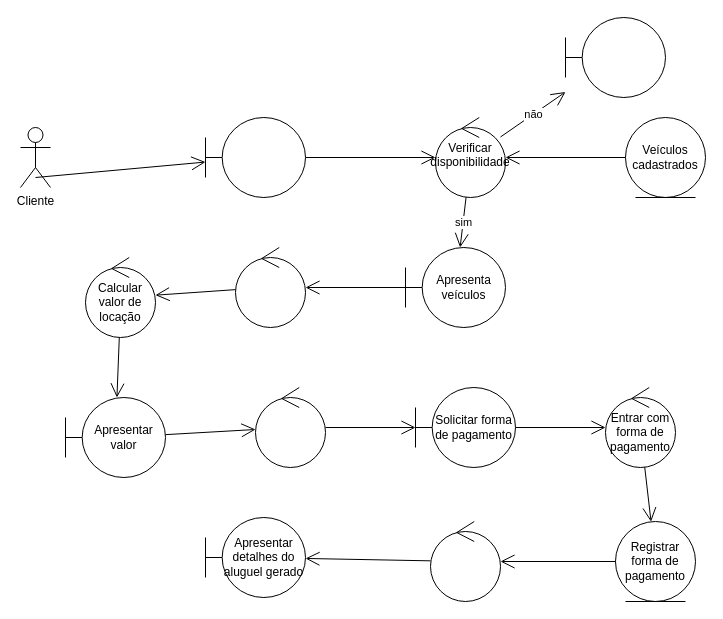
This 723x619 diagram has some shape labels left out. The shapes that lost their labels are listed below. From the top down, each one's centre as x and y in pixels, then its label:
the point at 615,57: Apresenta indisponibilidade
the point at 255,157: Informar condições desejadas de aluguel
the point at 270,287: Selecionar veículo desejado
the point at 290,427: Confirmar locação
the point at 465,561: Fechar reserva
